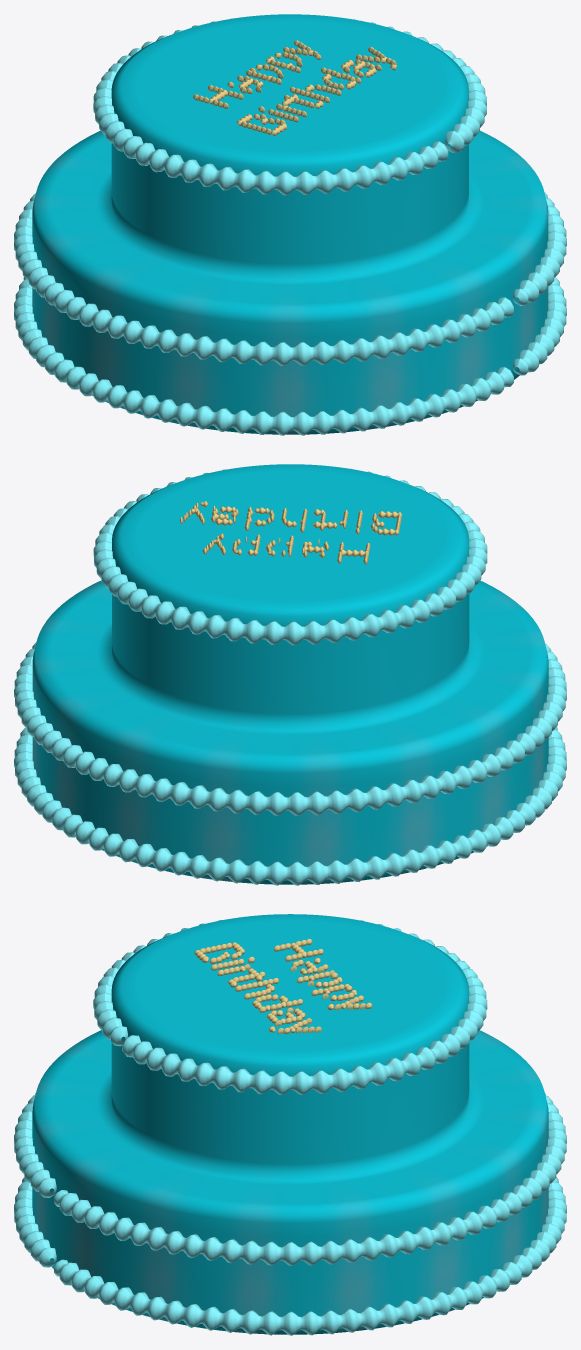
Rendered from cake.glb.
The picture shows the model from 3 angles, top to bottom: view 1: azimuth 30°, elevation 25°; view 2: azimuth 150°, elevation 25°; view 3: azimuth 270°, elevation 25°; orthographic projection.
Bounding box in the file's own units: 0.2785 × 0.138 × 0.2784.
